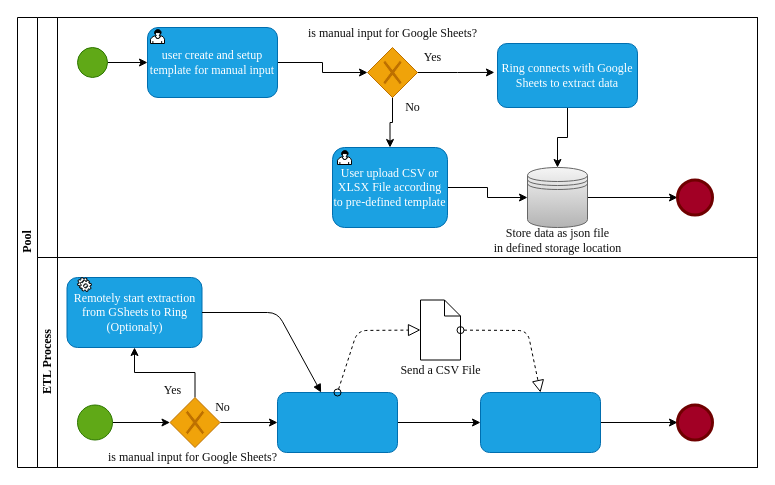
The diagram is 775 pixels wide and 485 high, and some of its shapes have lost their labels. The box of each missing label's shape, as (x1, y1, x2, y2) in pixels:
Extract data from Ring with Rest API: (276, 392, 398, 452)
Process single file data as needed: (480, 392, 600, 452)
Ring Service: (36, 16, 758, 258)
